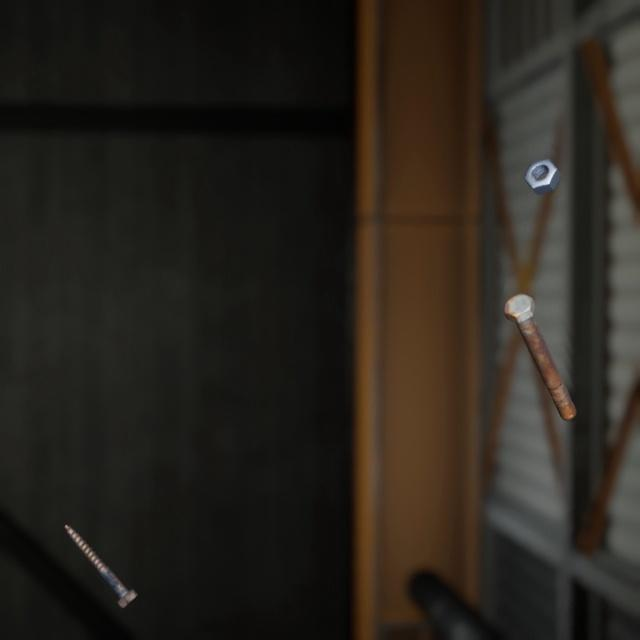bolt: (499, 270, 580, 407), (59, 497, 143, 590)
nut: (519, 139, 566, 185)
